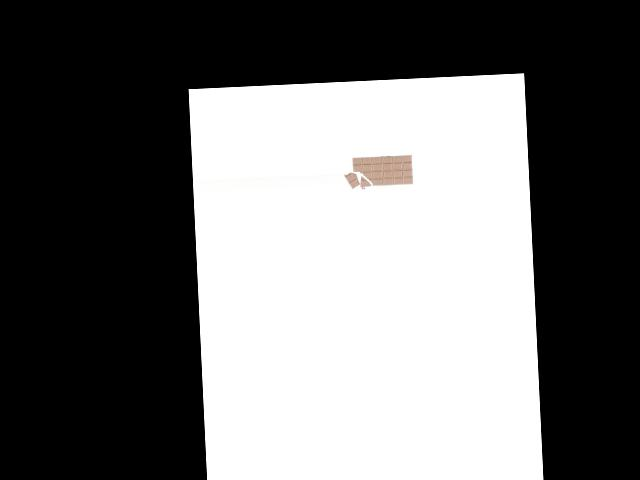chocolate: (342, 150, 414, 196)
